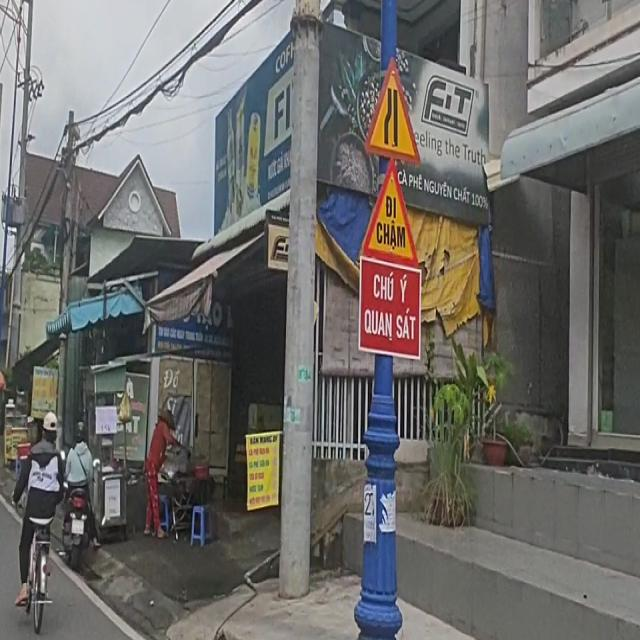Bien bao di cham: (358, 150, 429, 260)
Bien bao duong bi thu hep: (365, 55, 429, 158)
